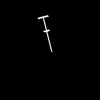double_crochet: (38, 16, 51, 50)
